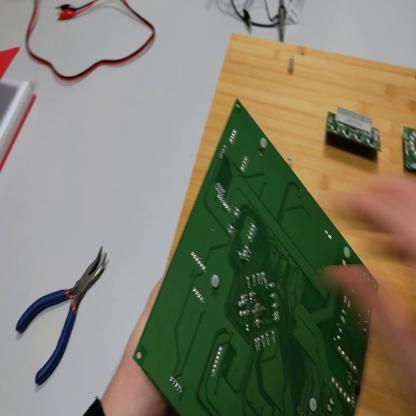hand: (320, 169, 416, 379), (104, 268, 176, 416)
low voltage board: (136, 100, 380, 416)
oscilloscope probe tip: (279, 1, 288, 47)
pliers: (16, 244, 109, 386)
register: (2, 51, 37, 173)
working area: (170, 35, 416, 416)
